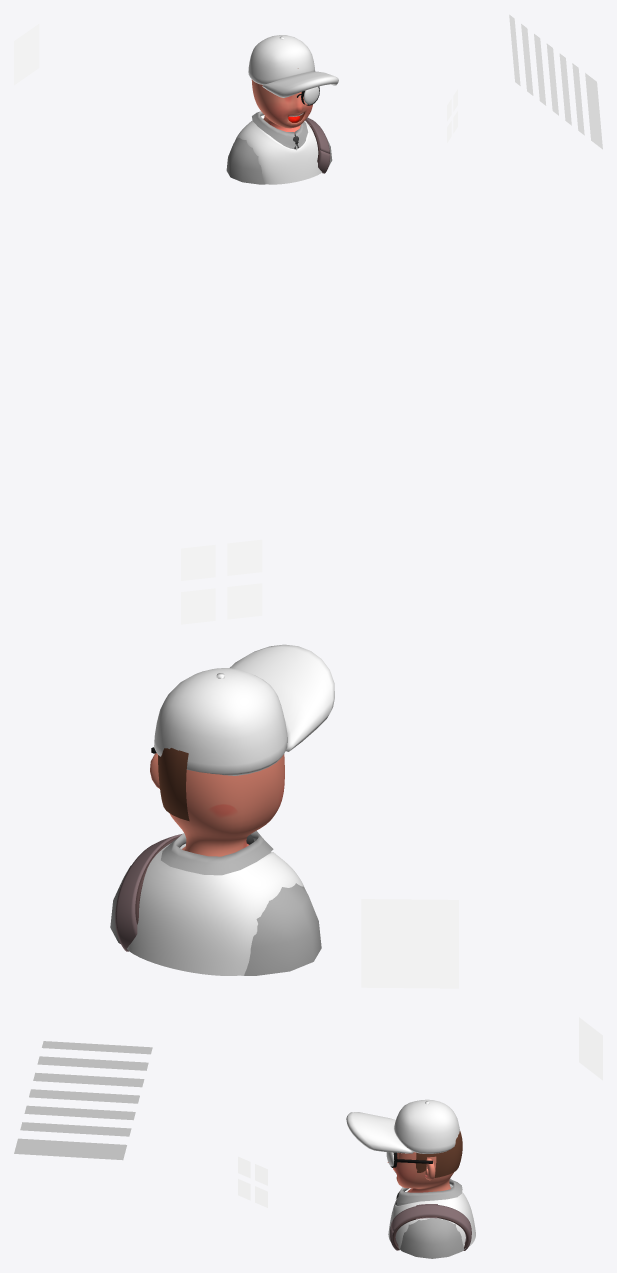
The model's file is student.glb.
3 renders of one model, top to bottom at view 1: azimuth 30°, elevation 25°; view 2: azimuth 150°, elevation 25°; view 3: azimuth 270°, elevation 25°, orthographic. The views are drawn at different scales.
Parts seen in each view (by area): view 1: Plane.002, Cube.077, Cube.081, Cube.076, Cube, Plane, Cube.082, Cylinder.003, Plane.001; view 2: Cube.077, Cube.081, Plane, Cube.076, Cube, Cube.082, Plane.001, Cylinder.003, Cube.075; view 3: Plane.002, Cube.081, Cube.076, Cube.082, Cube, Cube.077, Cylinder.003, Plane, Cube.075, Plane.001, Cylinder.
Part boxes in pixels (box(x1,y1,x2,y2)): Plane.002: box(509, 14, 602, 149); Cube.077: box(236, 115, 322, 184); Cube.081: box(248, 35, 315, 84); Cube.076: box(226, 111, 332, 184); Cube: box(251, 79, 312, 133); Plane: box(14, 24, 39, 85); Cube.082: box(262, 71, 338, 97); Cylinder.003: box(306, 117, 330, 173); Plane.001: box(447, 89, 457, 142); Cube.077: box(127, 843, 304, 975); Cube.081: box(154, 668, 287, 775); Plane: box(361, 899, 458, 988); Cube.076: box(110, 831, 321, 975); Cube: box(169, 754, 284, 856); Cube.082: box(230, 644, 334, 751); Plane.001: box(181, 539, 262, 624); Cylinder.003: box(115, 834, 181, 951); Cube.075: box(158, 748, 189, 821); Plane.002: box(14, 1041, 152, 1160); Cube.081: box(394, 1099, 459, 1153); Cube.076: box(395, 1178, 464, 1258); Cube.082: box(346, 1112, 413, 1153); Cube: box(387, 1152, 453, 1192); Cube.077: box(388, 1184, 475, 1248); Cylinder.003: box(390, 1204, 471, 1250); Plane: box(579, 1017, 602, 1080); Cube.075: box(407, 1131, 462, 1177); Plane.001: box(238, 1156, 267, 1207); Cylinder: box(392, 1215, 468, 1250).
Size of the model in its own units: 21.46 by 13.18 by 29.85.
Materials: 17 (2 with a texture image).
